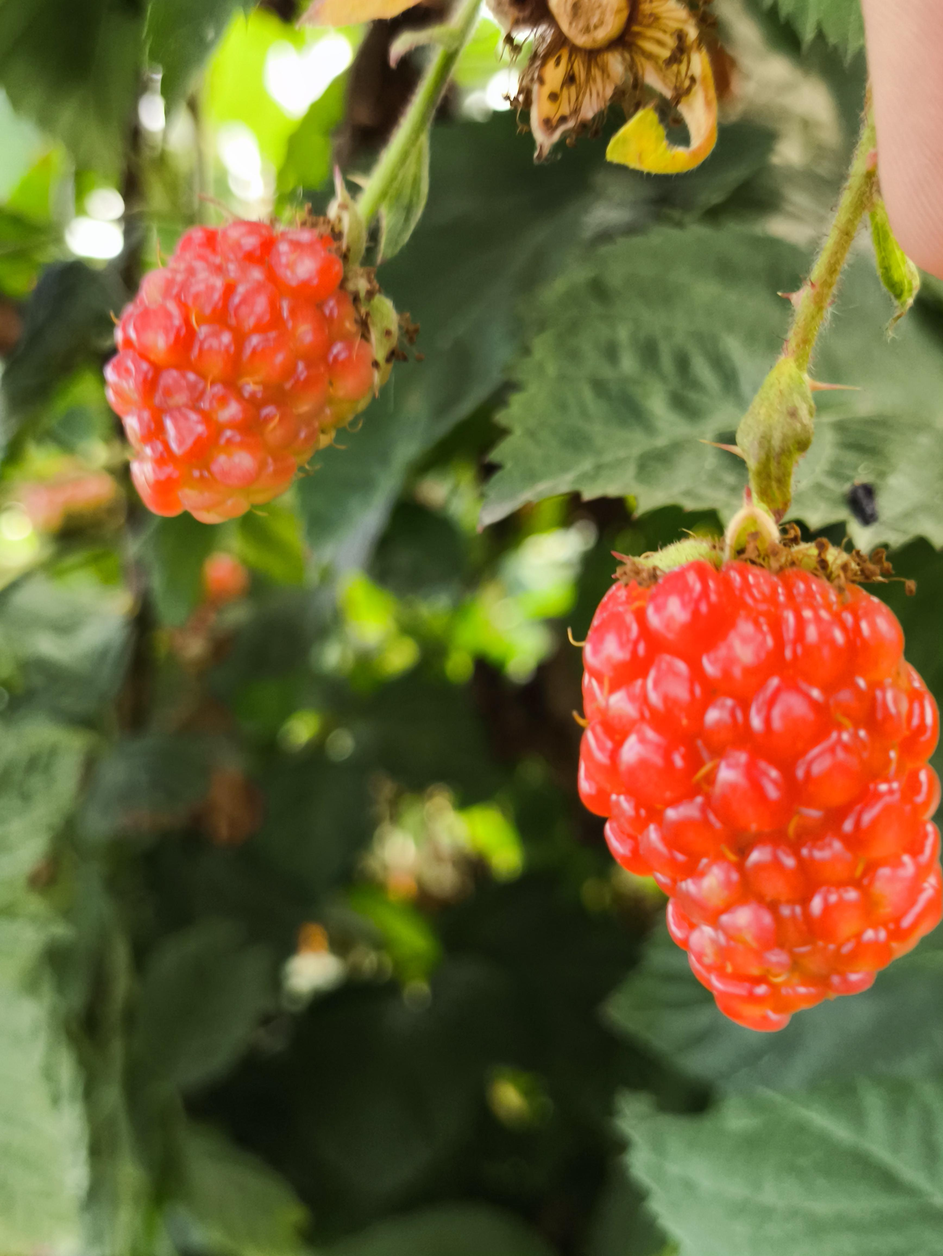naranja: (570, 549, 935, 1021), (105, 220, 397, 523)
